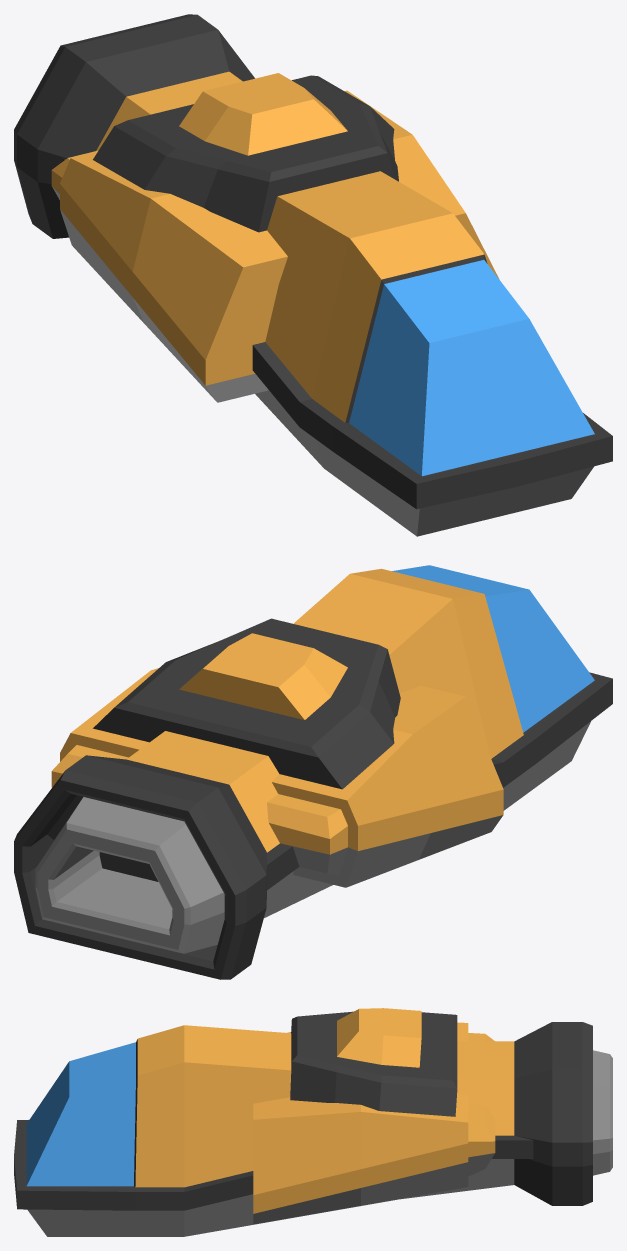
Rendered from t2_builder.fbx.
3 renders of one model, top to bottom at view 1: azimuth 30°, elevation 25°; view 2: azimuth 150°, elevation 25°; view 3: azimuth 270°, elevation 25°, orthographic. The views are drawn at different scales.
Parts seen in each view (by area): view 1: Builder|Cube_L_Rocket_Builder.blend|Dupli|; view 2: Builder|Cube_L_Rocket_Builder.blend|Dupli|; view 3: Builder|Cube_L_Rocket_Builder.blend|Dupli|.
Part boxes in pixels (x1=…): Builder|Cube_L_Rocket_Builder.blend|Dupli|: x1=14, y1=14, x2=612, y2=536; Builder|Cube_L_Rocket_Builder.blend|Dupli|: x1=14, y1=565, x2=612, y2=979; Builder|Cube_L_Rocket_Builder.blend|Dupli|: x1=14, y1=1008, x2=612, y2=1236.
Size of the model in its own units: 250 by 205 by 590.
